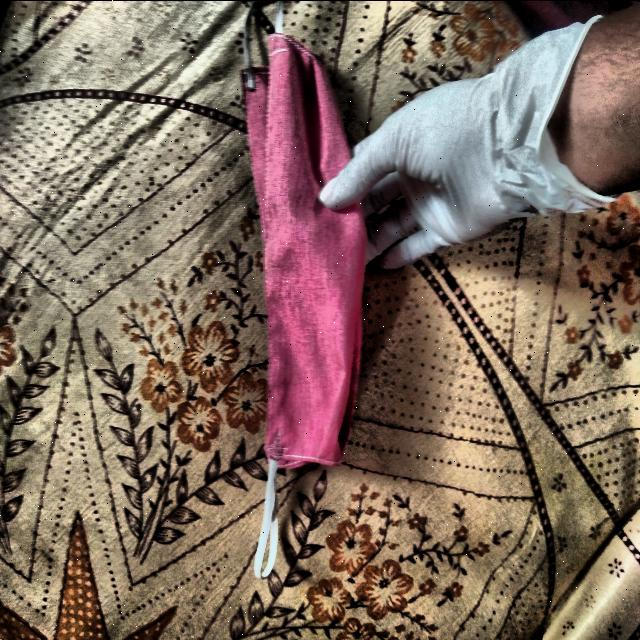gloved: (308, 8, 622, 292)
